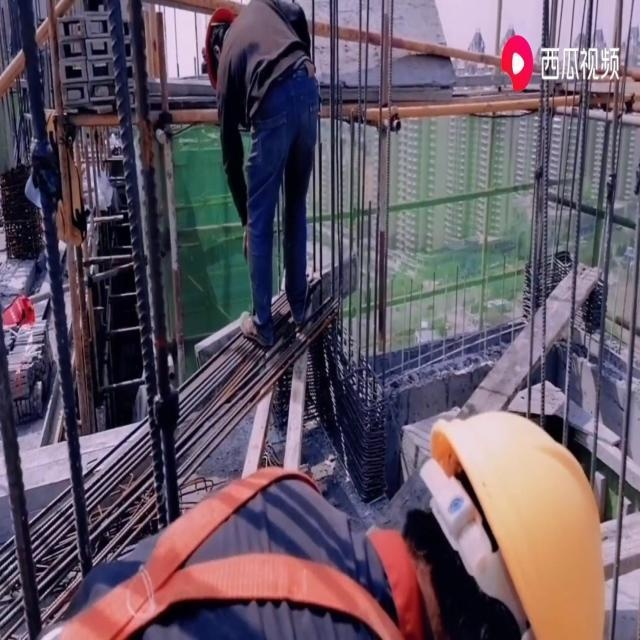Arnes_seguridad: (34, 447, 411, 639)
